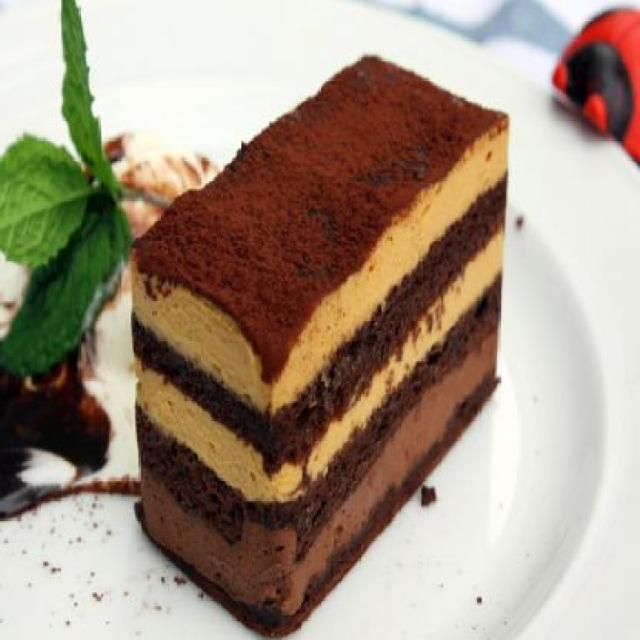Tiramisu: (145, 48, 517, 590)
